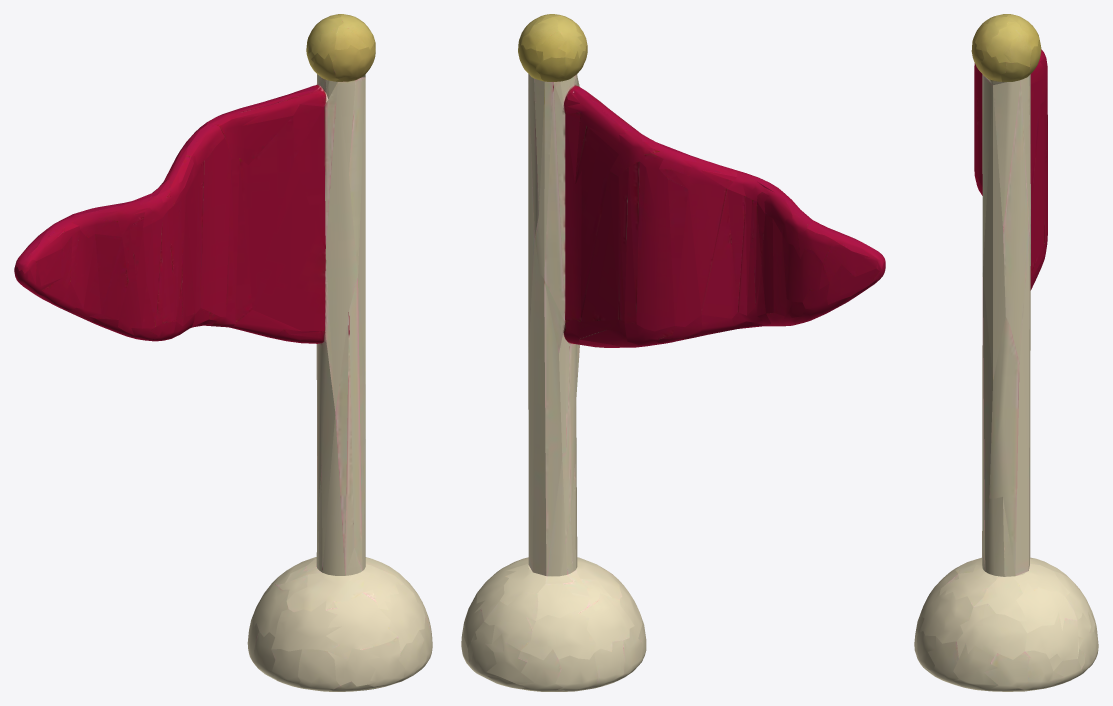
File: checkpoint_flag.glb
3 views of the same model, side by side, from view 1: azimuth 30°, elevation 25°; view 2: azimuth 150°, elevation 25°; view 3: azimuth 270°, elevation 25° (orthographic).
Bounding box in the file's own units: 1.27 × 1.9 × 0.496.
Materials: 1 (1 with a texture image).
